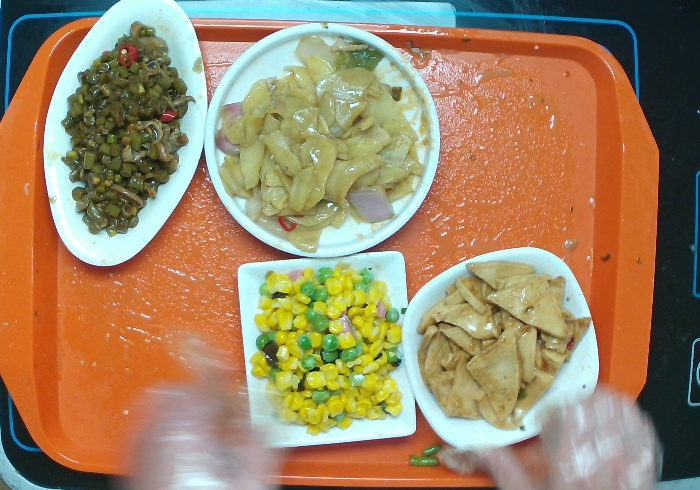HZYJPL-Si_Fang_Die: (235, 249, 419, 449)
HZYJPL-Si_Fang_Yuan_Die: (396, 247, 601, 454)
HZYJPL-Xiao_Yu_Die: (39, 1, 209, 271)
HZYJPL-Xiao_Yuan_Die: (206, 20, 441, 262)
